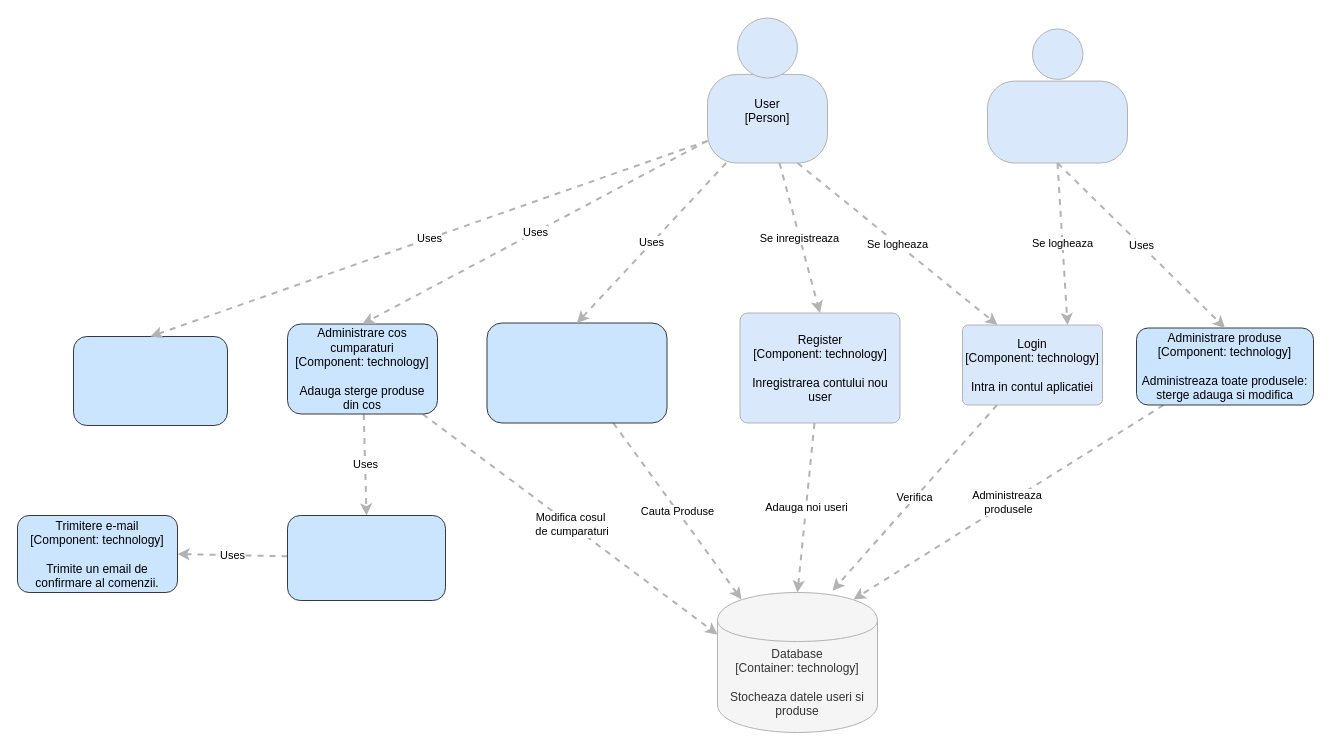
Some shapes in this 1331 by 750 pixel diagram are drawn without their labels. The shapes that lost their labels are listed below. From the top down, each one's box as (x1, y1, x2, y2) in pixels, then its label:
(986, 80, 1128, 163): Admin [Person]
(72, 336, 228, 426): Administrare profil [Component: technology] Isi modifica profilul
(486, 322, 667, 423): Cautare Produse [Component: technology] Cautare produselor din gama
(286, 514, 446, 600): Finalizare comanda [Component: technology] Finalizare Comanda
